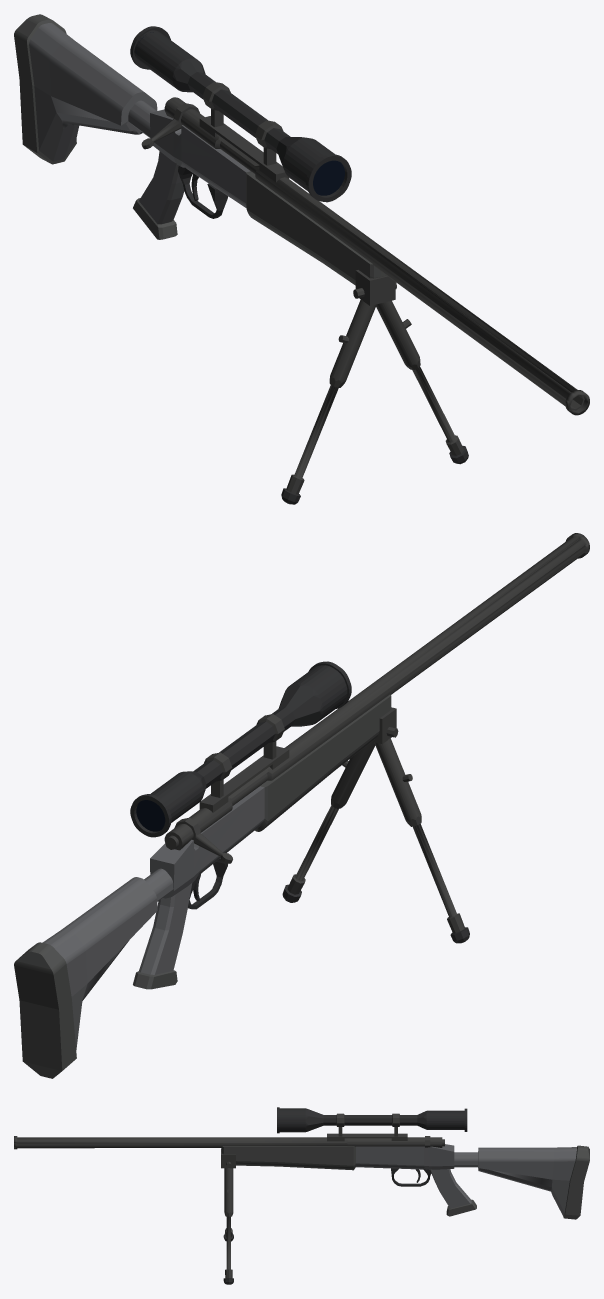
File: SAVAGE 110BA.fbx
3 views of the same model, one above another, from view 1: azimuth 30°, elevation 25°; view 2: azimuth 150°, elevation 25°; view 3: azimuth 270°, elevation 25° (orthographic). The views are drawn at different scales.
Parts seen in each view (by area): view 1: SAVAGE 110BA; view 2: SAVAGE 110BA; view 3: SAVAGE 110BA.
Part boxes in pixels (x1=…): SAVAGE 110BA: x1=14, y1=14, x2=589, y2=504; SAVAGE 110BA: x1=14, y1=533, x2=589, y2=1078; SAVAGE 110BA: x1=14, y1=1107, x2=589, y2=1284.
Size of the model in its own units: 125 by 189 by 637.
